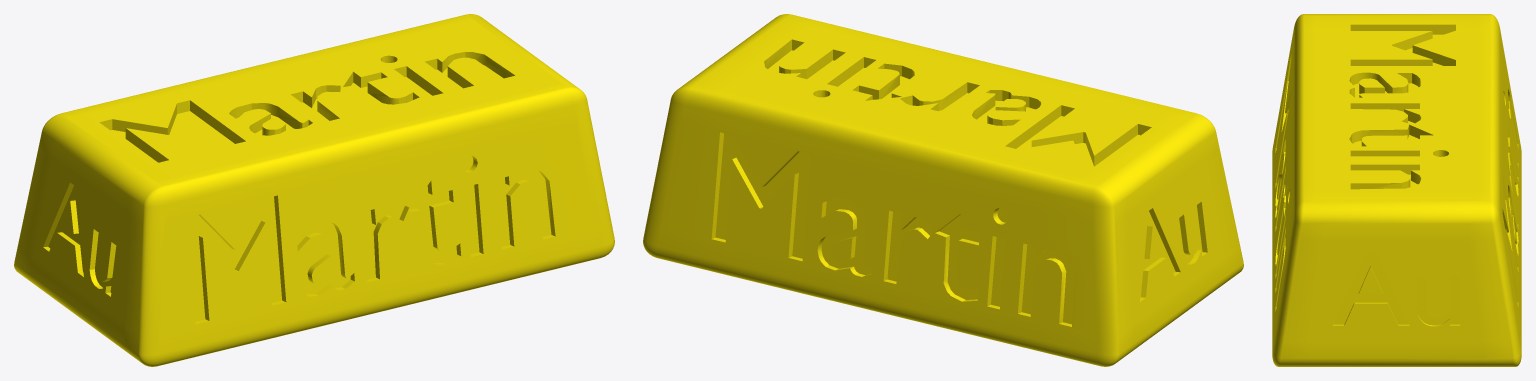
The model's file is Goldbar.glb.
3 renders of one model, left to right at view 1: azimuth 30°, elevation 25°; view 2: azimuth 150°, elevation 25°; view 3: azimuth 270°, elevation 25°, orthographic. The views are drawn at different scales.
Parts seen in each view (by area): view 1: Cube; view 2: Cube; view 3: Cube.
Part boxes in pixels (<box>): Cube: <box>14,14,614,366</box>; Cube: <box>643,14,1243,366</box>; Cube: <box>1272,14,1521,366</box>.
Size of the model in its own units: 3.33 by 1.1 by 1.61.
